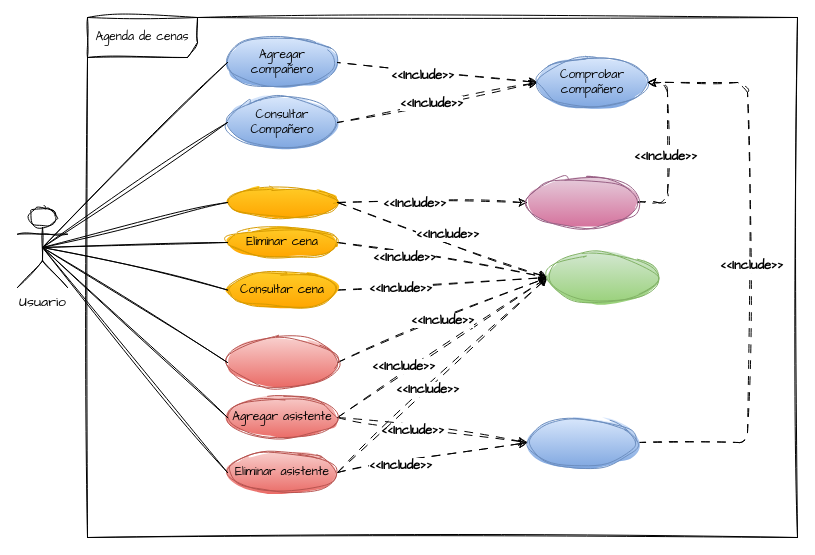
The diagram is 815 pixels wide and 555 high, and some of its shapes have lost their labels. The shapes that lost their labels are listed below. From the top down, each one's box as (x1, y1, x2, y2) in pixels, then its label:
(226, 186, 338, 218): Agregar cena
(526, 176, 638, 228): Comprobar organizador
(546, 252, 658, 302): Comprobar cena
(226, 336, 338, 388): Consultar asistentes
(526, 416, 638, 468): Comprobar asistente
